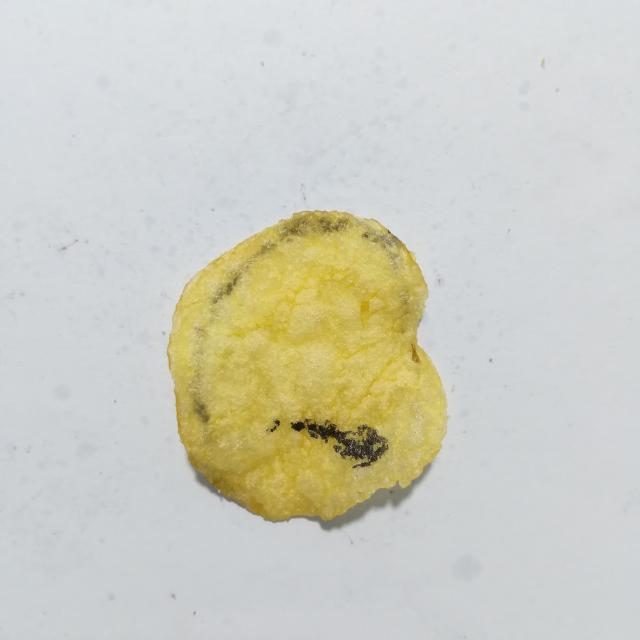chip: (167, 211, 447, 520)
damaged: (290, 418, 388, 468), (267, 419, 280, 432)
semi-damaged: (189, 211, 410, 421), (400, 289, 419, 320)
